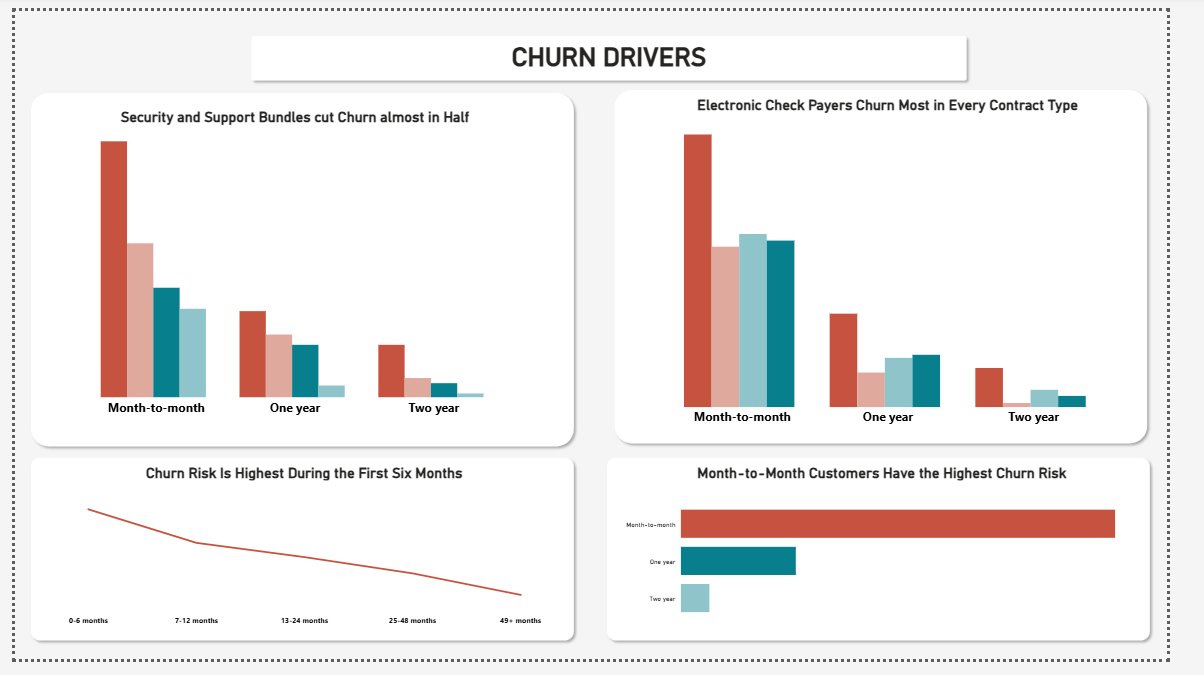

The dashboard page shown, as its layout file describes it:
{"tool":"powerbi","page":{"name":"Churn Drivers","canvas":[1920,1080],"ordinal":1},"visuals":[{"type":"clusteredBarChart","title":"Month-to-Month Customers Have the Highest Churn Risk","fields":{"Category":["churn_by_contract.contract_type"],"Y":["Sum(churn_by_contract.churn_rate_pct)"]},"box":[43.7,155.4,1185.3,323],"z":0},{"type":"lineChart","title":"Churn Risk Is Highest During the First Six Months","fields":{"Category":["retention_by_tenure.tenure_band"],"Y":["Sum(retention_by_tenure.churn_rate_pct)"]},"box":[1229,155.4,633.9,383.8],"z":1000},{"type":"clusteredBarChart","title":"Security and Support Bundles Cut Churn in Half","fields":{"Category":["driver_addons_by_contract.contract_type"],"Series":["driver_addons_by_contract.addon_bundle"],"Y":["Sum(driver_addons_by_contract.churn_rate_pct)"]},"box":[43.7,539.2,803.9,517.3],"z":2000},{"type":"clusteredColumnChart","title":"Electronic Check Payers Churn Most, in Every Contract Type","fields":{"Category":["driver_payment_churn_by_contract.contract_type"],"Series":["driver_payment_churn_by_contract.payment_method"],"Y":["Sum(driver_payment_churn_by_contract.churn_rate_pct)"]},"box":[1051.7,539.2,842.8,541.6],"z":3000},{"type":"textbox","box":[45,32.5,1850,95],"z":3001}]}

Visuals, with their boxes in screenshot pixels (x1, y1, x2, y2), scaled from the page's 1920x1080 canvas onto the 1204x675 screenshot:
"Month-to-Month Customers Have the Highest Churn Risk" clusteredBarChart: {"x1": 27, "y1": 97, "x2": 771, "y2": 299}
"Churn Risk Is Highest During the First Six Months" lineChart: {"x1": 771, "y1": 97, "x2": 1168, "y2": 337}
"Security and Support Bundles Cut Churn in Half" clusteredBarChart: {"x1": 27, "y1": 337, "x2": 532, "y2": 660}
"Electronic Check Payers Churn Most, in Every Contract Type" clusteredColumnChart: {"x1": 660, "y1": 337, "x2": 1188, "y2": 674}
textbox: {"x1": 28, "y1": 20, "x2": 1188, "y2": 80}
